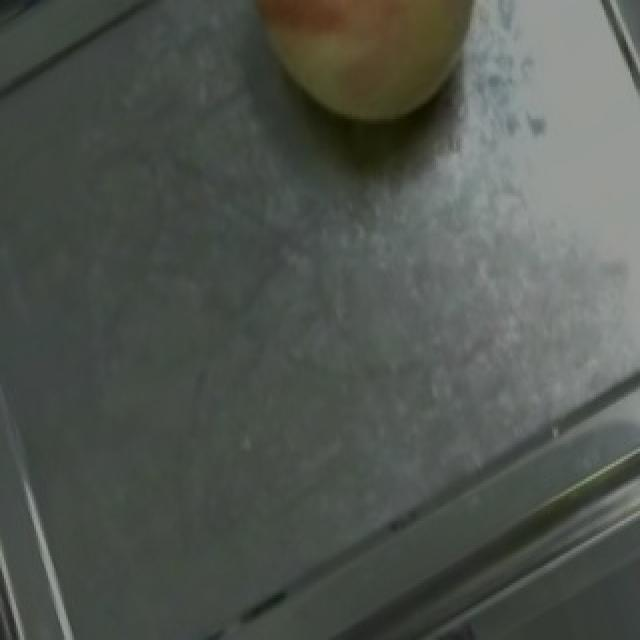Fruit: (210, 0, 514, 161)
